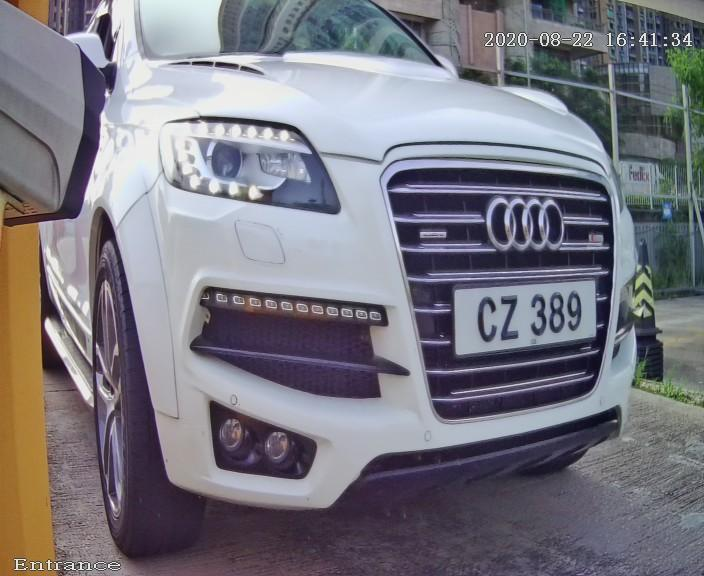License Plate: (440, 263, 604, 363)
